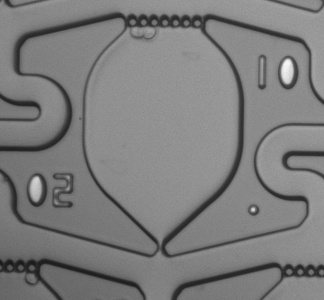AptNum: (244, 51, 306, 96)
Marker: (238, 197, 268, 224)
StNum: (19, 166, 81, 216)
Trap: (139, 245, 183, 287)
